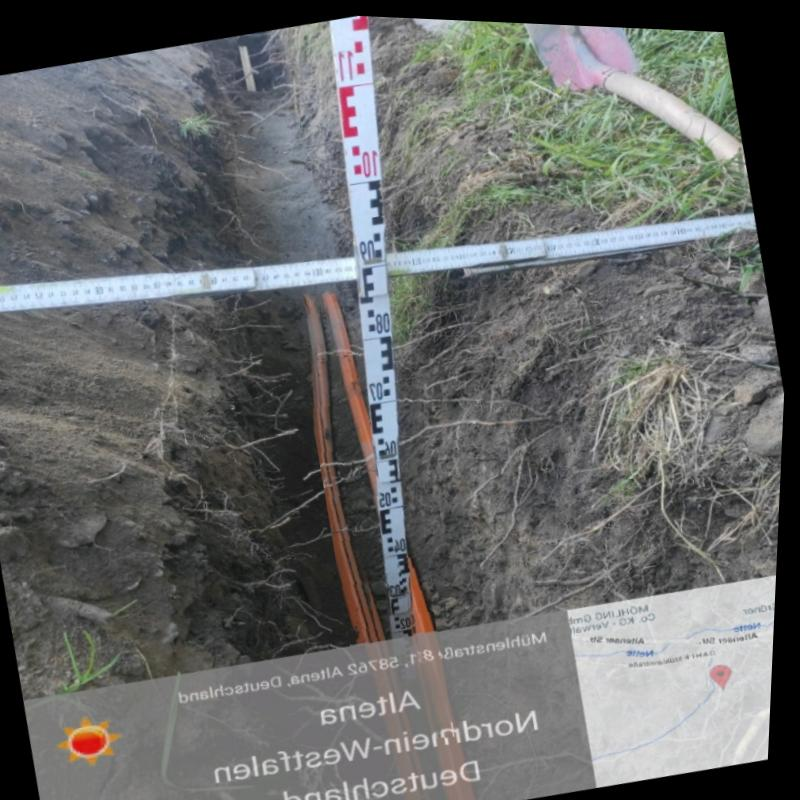Orang-Speednetrohrchen: (309, 293, 384, 642), (327, 291, 380, 492), (403, 554, 461, 733)
